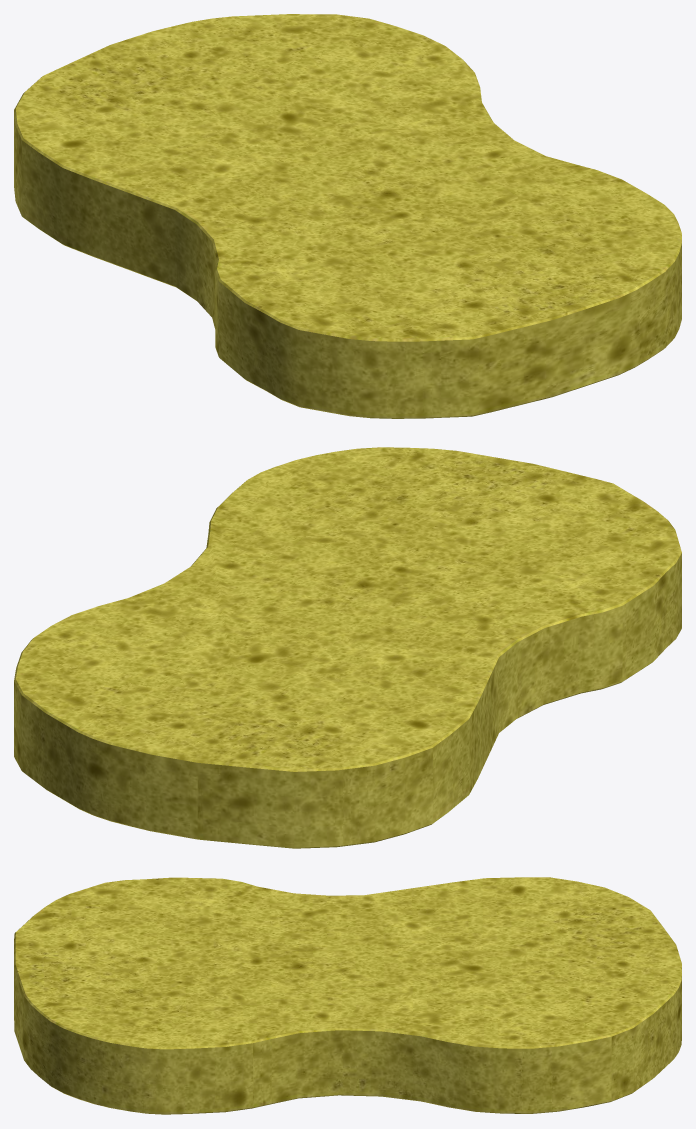
Rendered from Sponge.fbx.
3 renders of one model, top to bottom at view 1: azimuth 30°, elevation 25°; view 2: azimuth 150°, elevation 25°; view 3: azimuth 270°, elevation 25°, orthographic. The views are drawn at different scales.
Visible parts, largest first — view 1: Plane; view 2: Plane; view 3: Plane.
Part boxes in pixels (bbox=[...]): Plane: bbox=[14, 14, 681, 418]; Plane: bbox=[14, 447, 681, 848]; Plane: bbox=[14, 877, 681, 1114].
Bounding box in the file's own units: 267 × 48.91 × 440.
